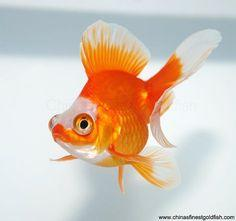goldfish: (34, 33, 209, 188)
